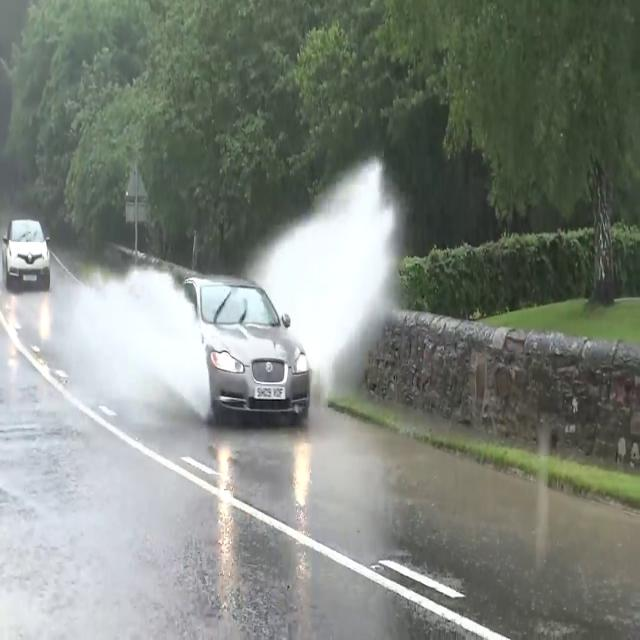license-plate-annotation: (253, 383, 287, 400)
